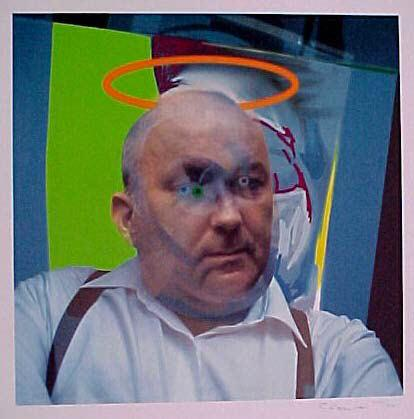person: (16, 94, 394, 394)
